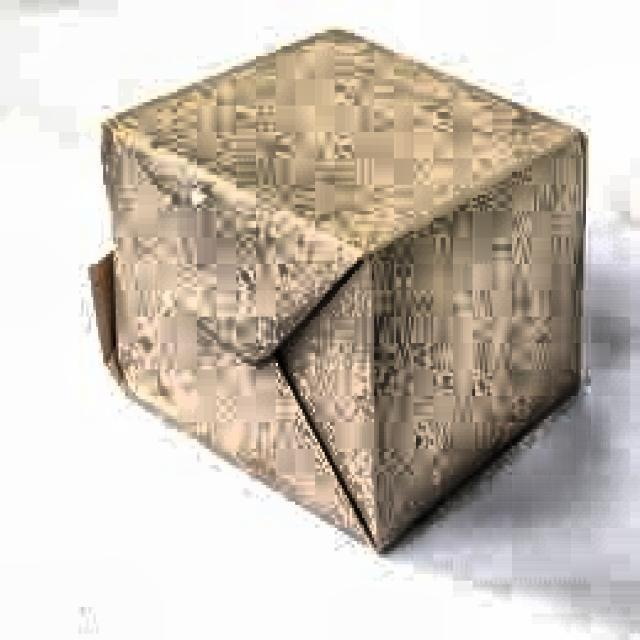cardboard: (91, 23, 588, 554)
